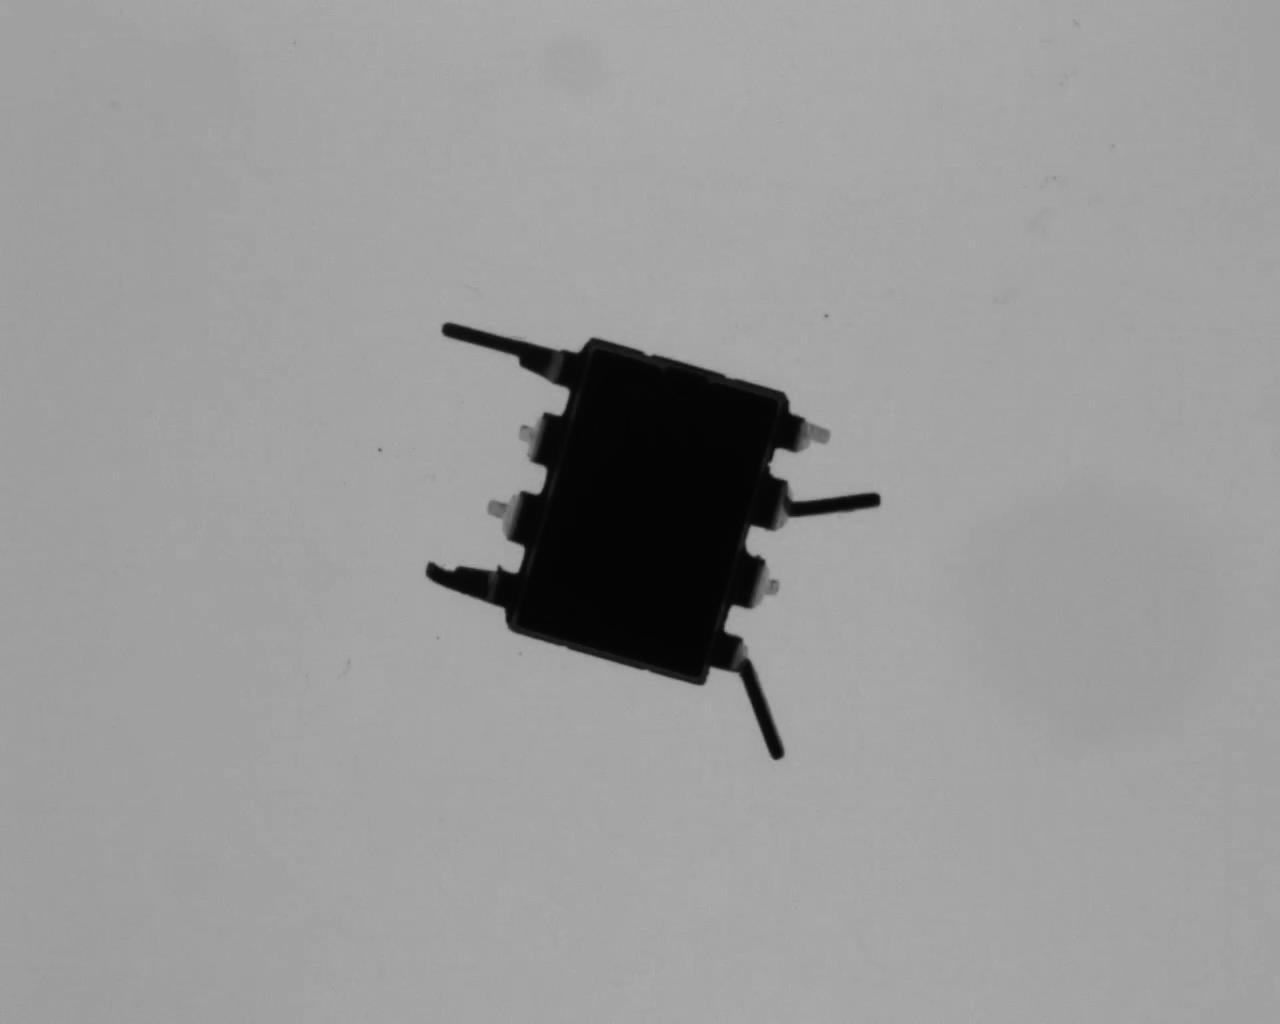Leg: (438, 308, 587, 396), (721, 629, 789, 766), (738, 475, 884, 538), (415, 554, 514, 627), (474, 486, 541, 549), (739, 553, 789, 622), (508, 410, 560, 471), (788, 410, 839, 464)
